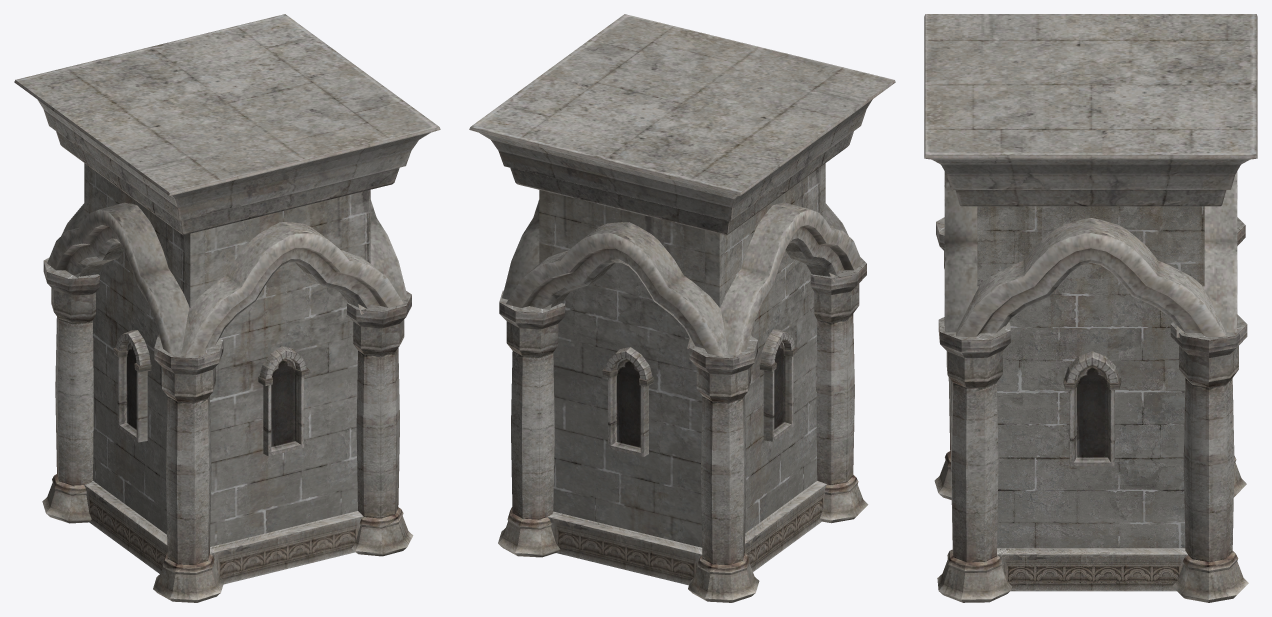
File: bg_lut_lucastle_churchtower02_sm_ksh.FBX
The picture shows the model from 3 angles, left to right: view 1: azimuth 30°, elevation 25°; view 2: azimuth 150°, elevation 25°; view 3: azimuth 270°, elevation 25°; orthographic projection. The views are drawn at different scales.
Visible parts, largest first — view 1: bg_lut_lucastle_churchtower02_sm_ksh; view 2: bg_lut_lucastle_churchtower02_sm_ksh; view 3: bg_lut_lucastle_churchtower02_sm_ksh.
Part boxes in pixels (x1,y1,x2,y2): bg_lut_lucastle_churchtower02_sm_ksh: (14, 14, 440, 602); bg_lut_lucastle_churchtower02_sm_ksh: (469, 14, 895, 602); bg_lut_lucastle_churchtower02_sm_ksh: (924, 14, 1257, 602).
Size of the model in its own units: 161 by 240 by 160.
